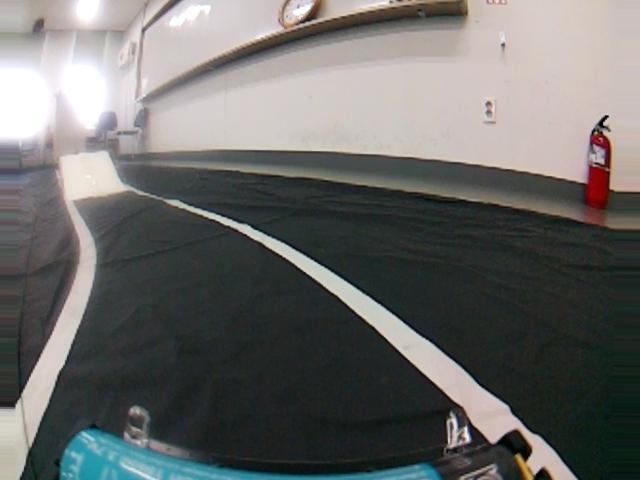straight: (0, 246, 640, 479)
